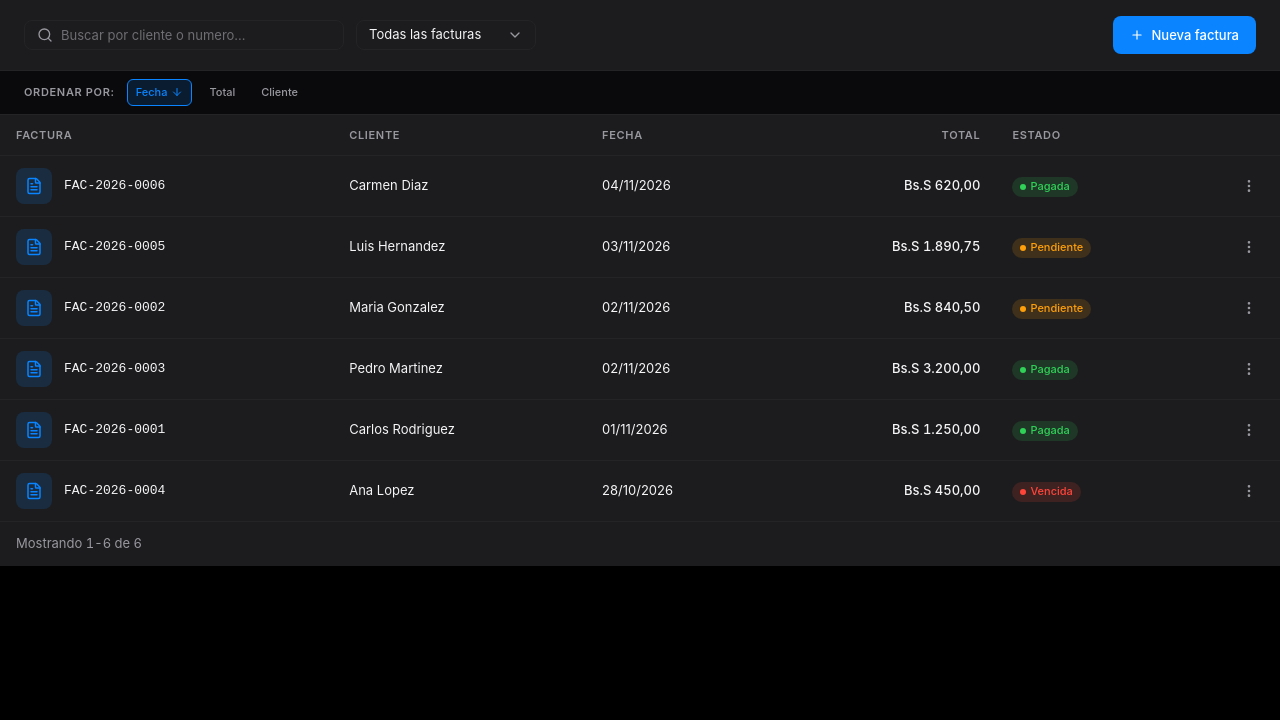
Test: Billing › shows "no results" state when filters return empty
Expected: the text "FAC-2026-0001" is shown, [64,420,165,440]
Type "ZZZ_No_Existe" into the field with placeholder "Buscar por cliente o numero...".
click(196, 35); type("ZZZ_No_Existe")  # box [61,21,331,49]
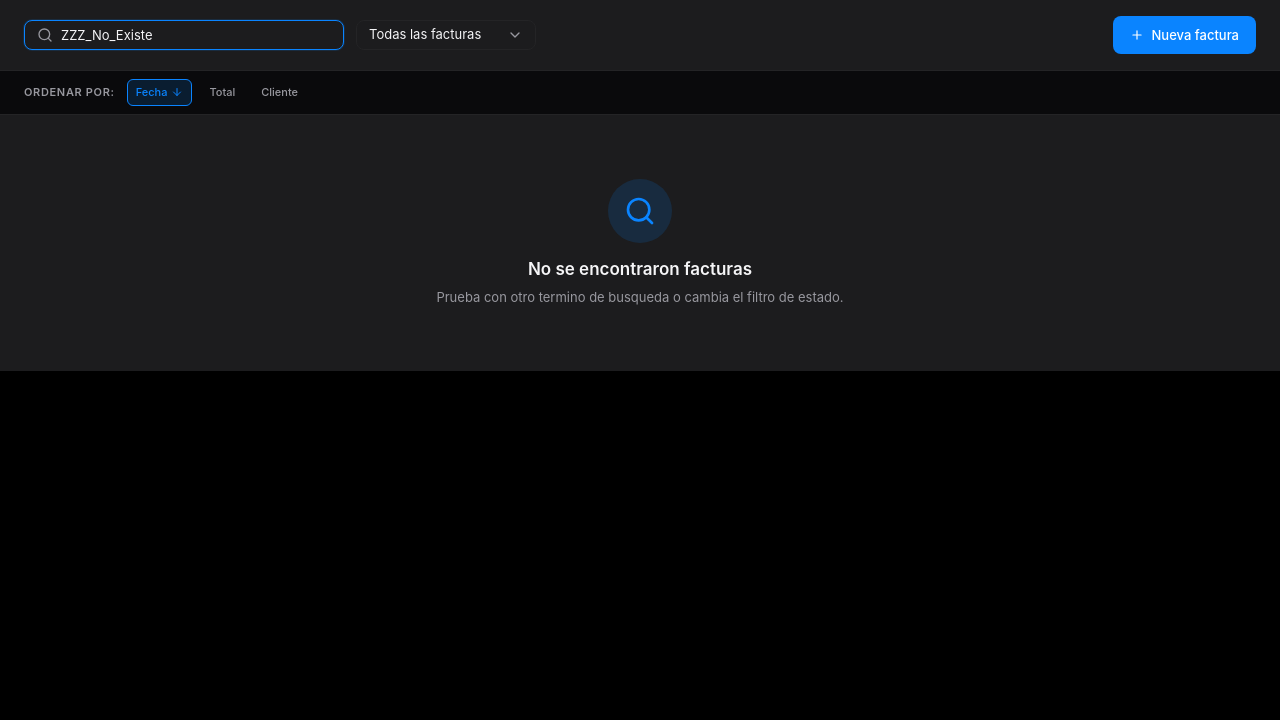
Expected: the heading "No se encontraron facturas" is shown, [528,258,752,278]
